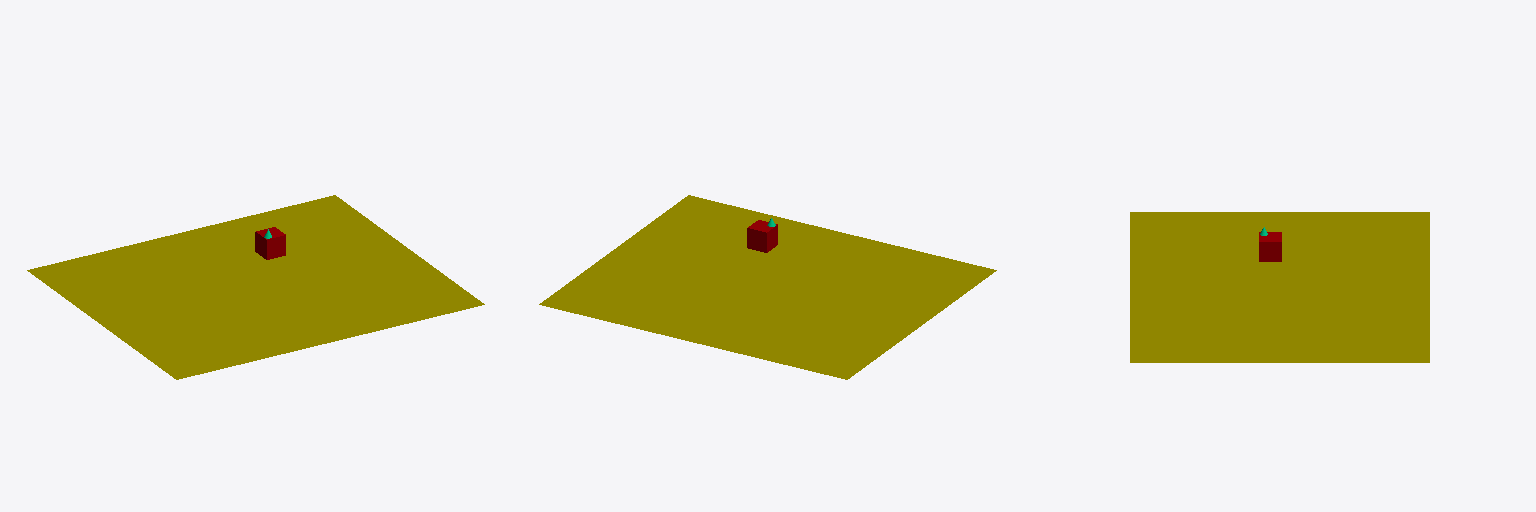
File: boxCone.obj
3 views of the same model, side by side, from view 1: azimuth 30°, elevation 25°; view 2: azimuth 150°, elevation 25°; view 3: azimuth 270°, elevation 25° (orthographic).
Visible parts, largest first — view 1: Plane, Cube; view 2: Plane, Cube; view 3: Plane, Cube.
Part boxes in pixels (x1,y1,x2,y2): Plane: (27,195,484,379); Cube: (255,227,285,259); Plane: (539,195,996,379); Cube: (747,220,777,252); Plane: (1130,212,1429,362); Cube: (1259,232,1281,261).
Size of the model in its own units: 7.18 by 1.4 by 6.04.